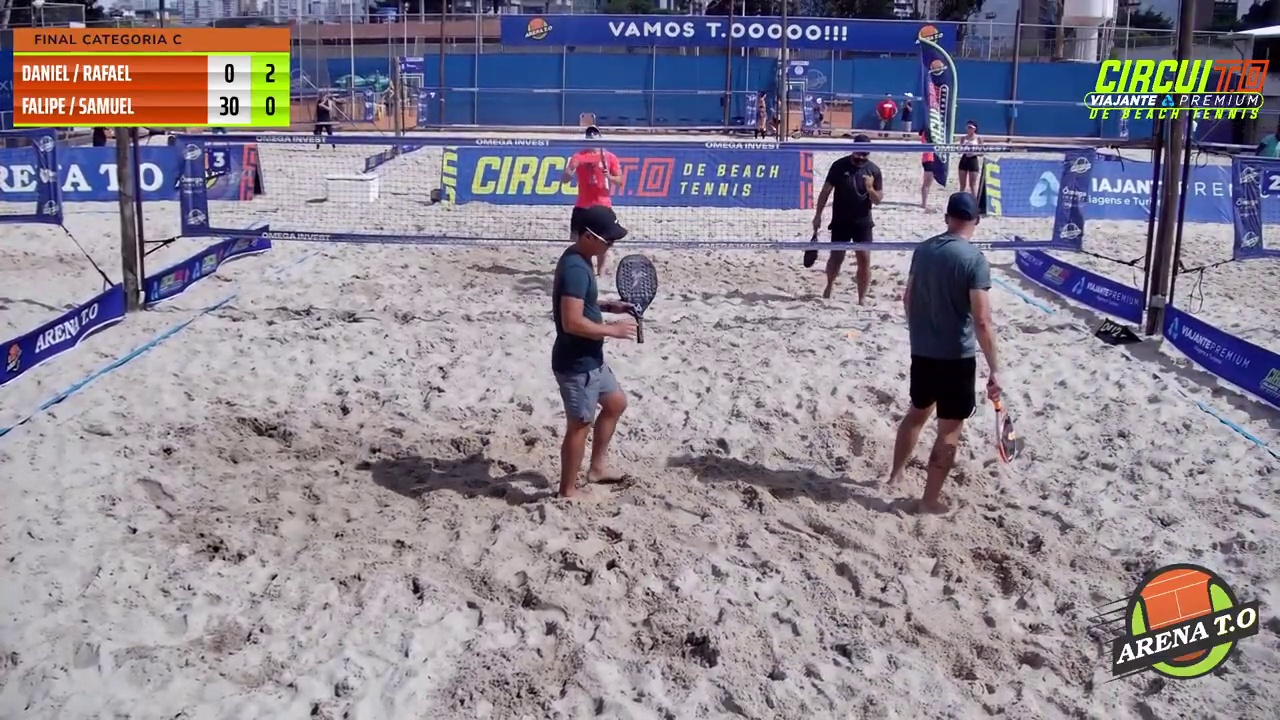court_line: (633, 0, 797, 372)
